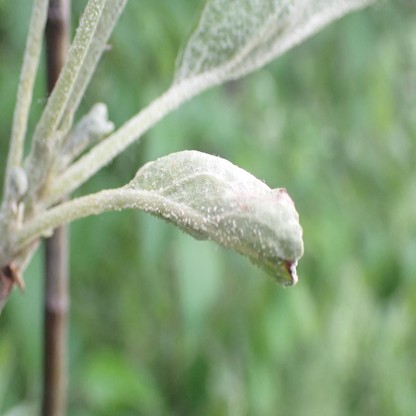powder: (133, 146, 304, 289), (178, 2, 376, 73)
